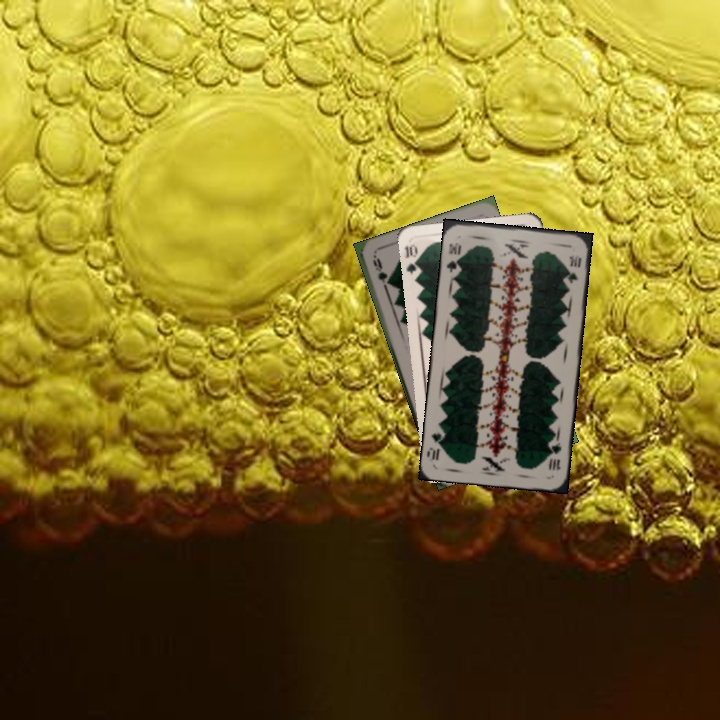G10: (401, 240, 424, 280), (443, 239, 464, 275), (545, 435, 564, 473)
G9: (369, 252, 390, 292)
